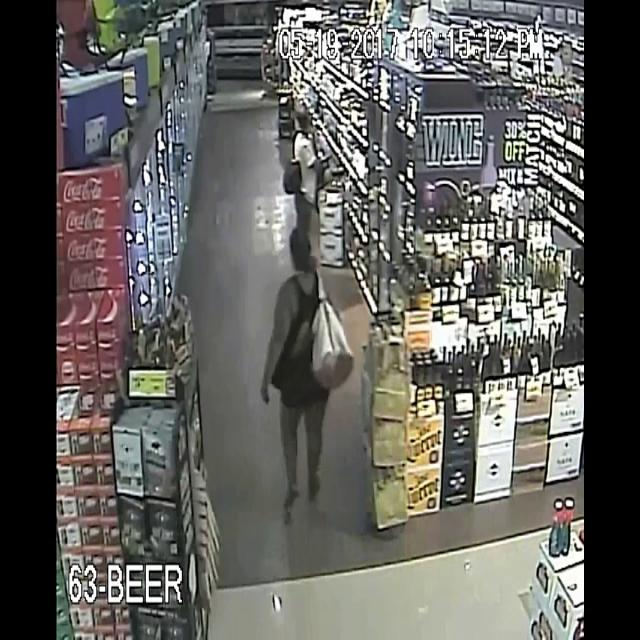normal: (256, 218, 343, 564), (278, 100, 340, 292)
